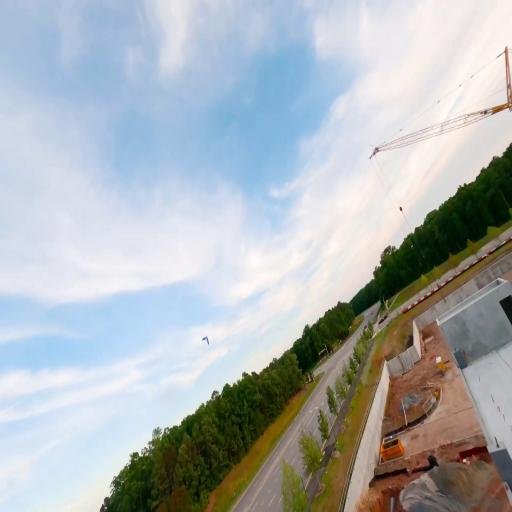uav: (201, 334, 210, 346)
